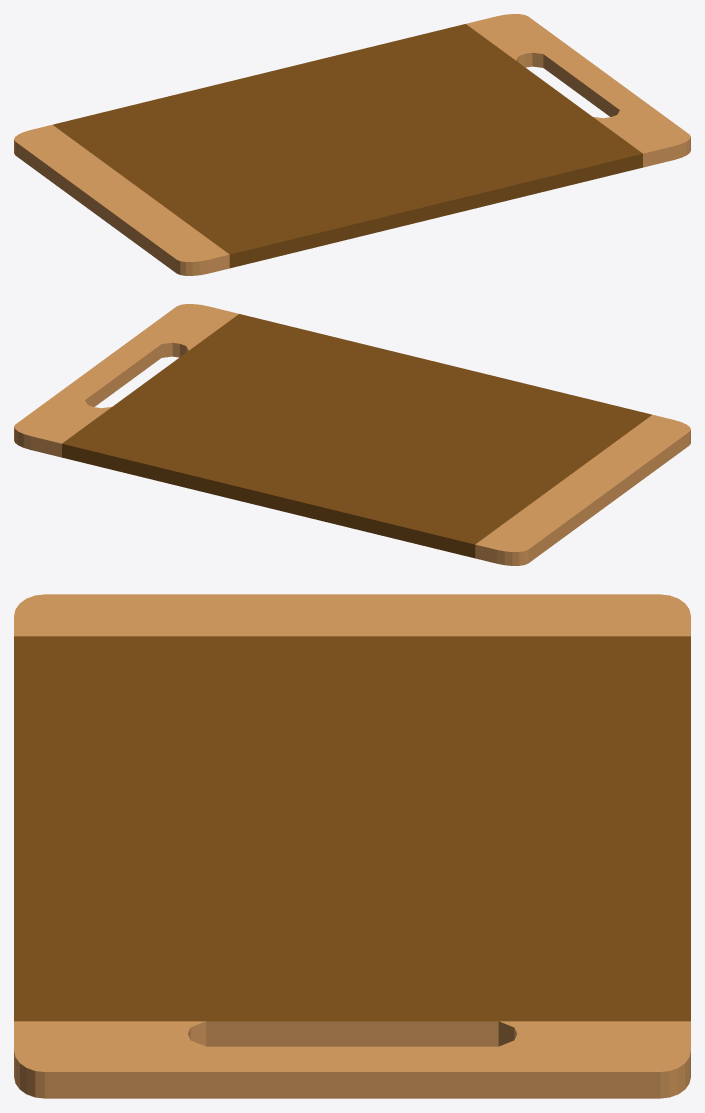
File: Cutting-board.fbx
The picture shows the model from 3 angles, top to bottom: view 1: azimuth 30°, elevation 25°; view 2: azimuth 150°, elevation 25°; view 3: azimuth 270°, elevation 25°; orthographic projection. The views are drawn at different scales.
Visible parts, largest first — view 1: Cutting-board; view 2: Cutting-board; view 3: Cutting-board.
Part boxes in pixels (x1,y1,x2,y2): Cutting-board: [14, 14, 690, 275]; Cutting-board: [14, 304, 690, 565]; Cutting-board: [14, 594, 690, 1098].
Size of the model in its own units: 253 by 6.54 by 152.
